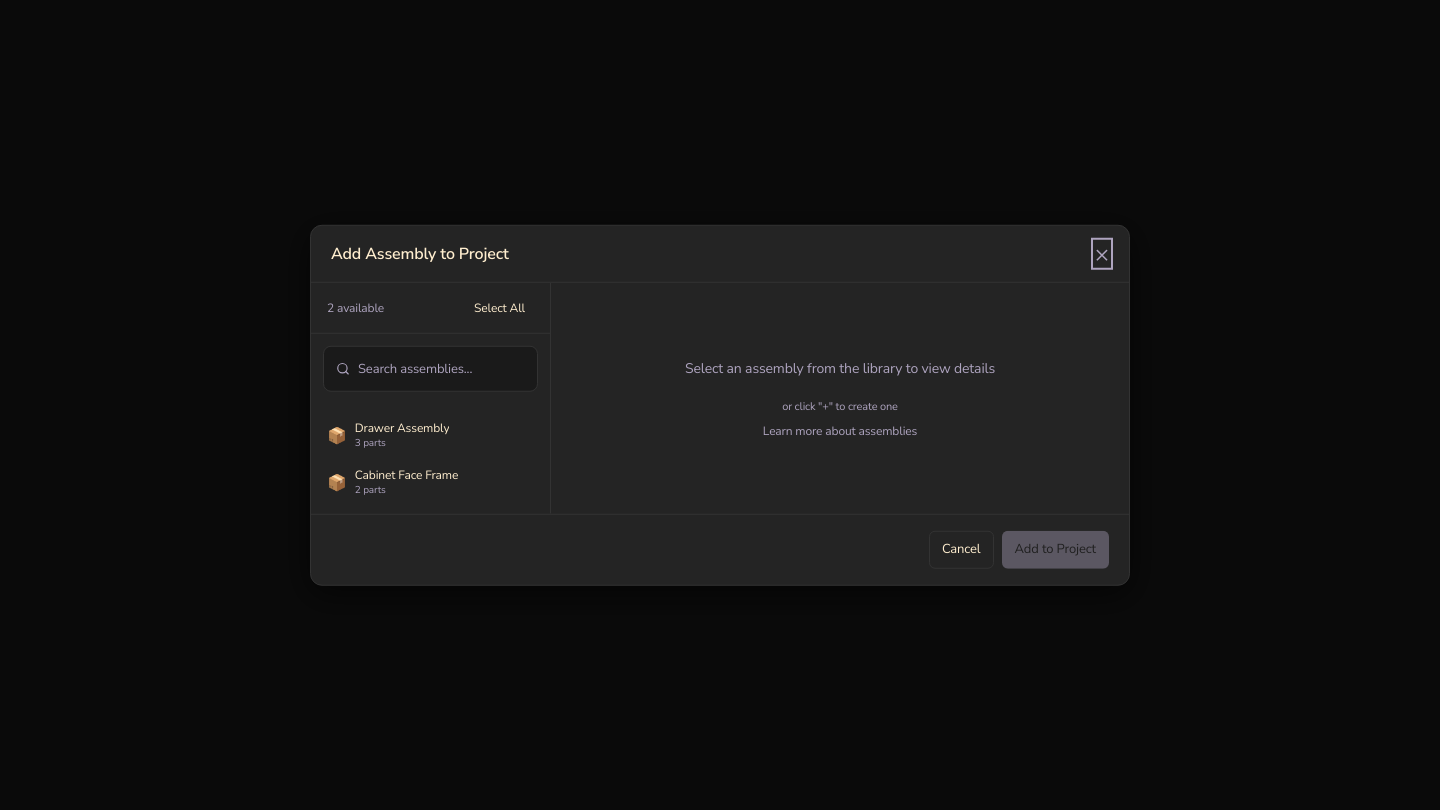
Test case: AddAssemblyModal › search › filters assemblies by search term
The image size is (1440, 810).
In the field with placeholder "Search assemblies...": (442, 369) [358,355,525,383], type "Drawer"
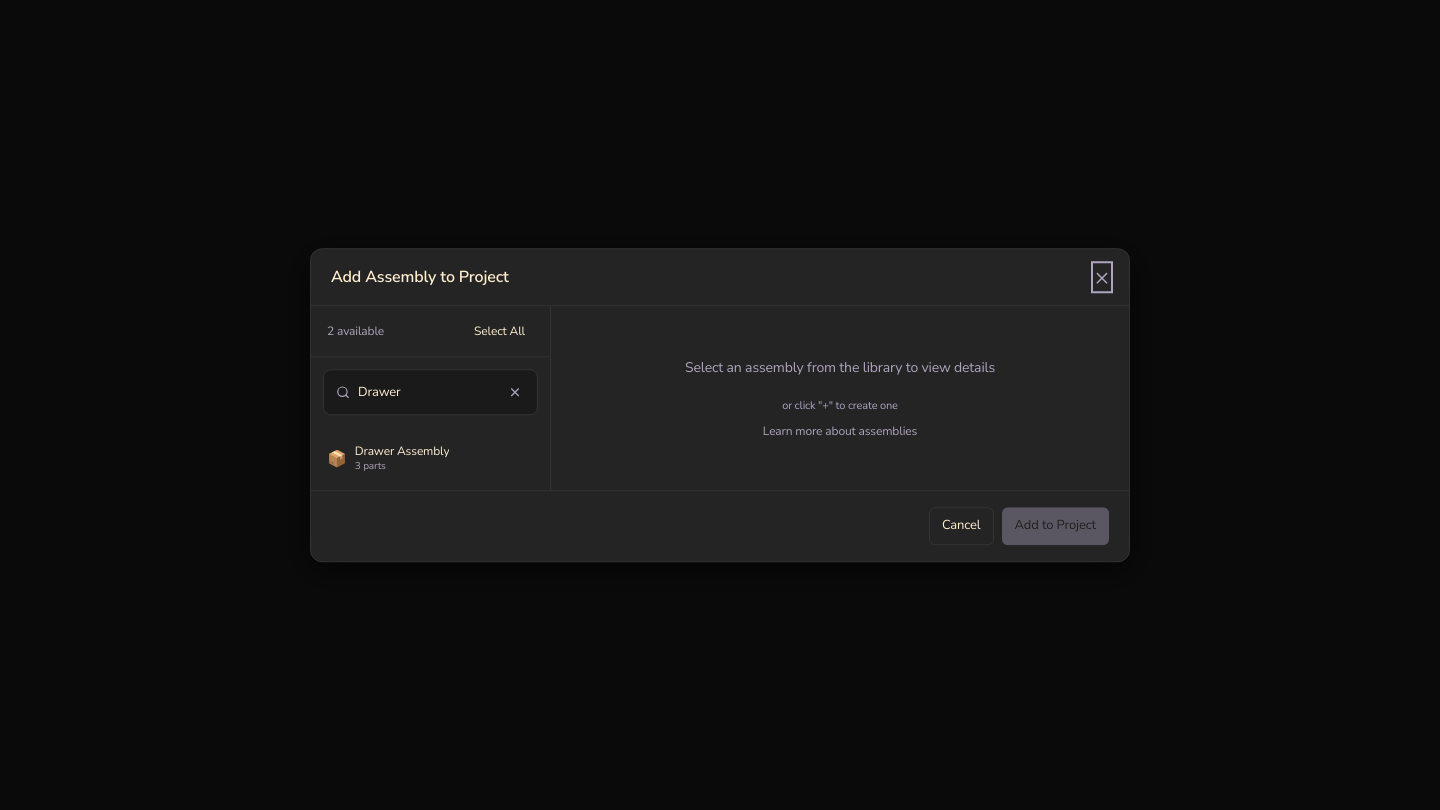
Expected: the text "Drawer Assembly" is shown, [355,443,449,459]
Expected: the button "Cabinet Face Frame" is gone
